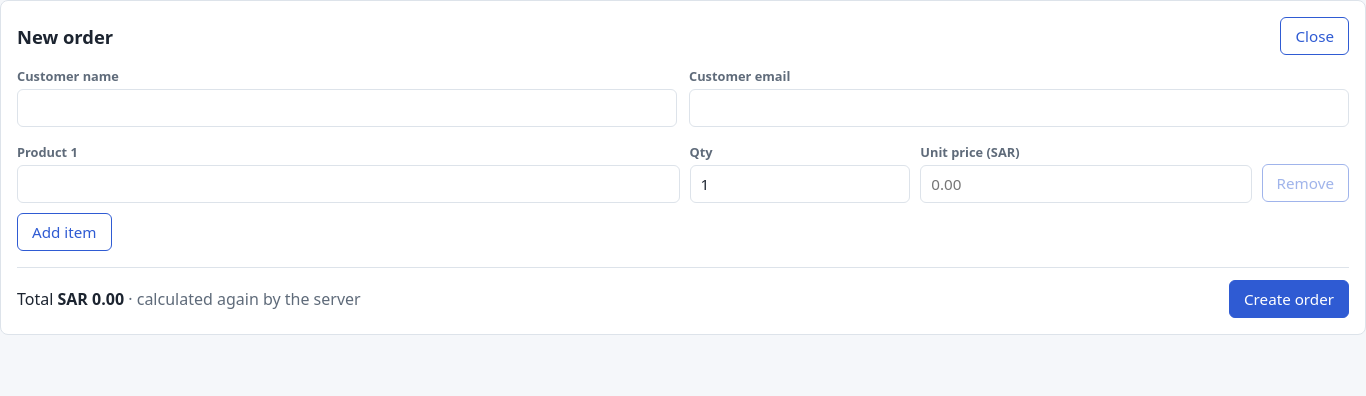
Scenario: CreateOrderForm › shows field errors and sends nothing when the form is invalid
Type "not-an-email" into the field labelled "Customer email" at (1019, 108), box [689,89,1349,127]
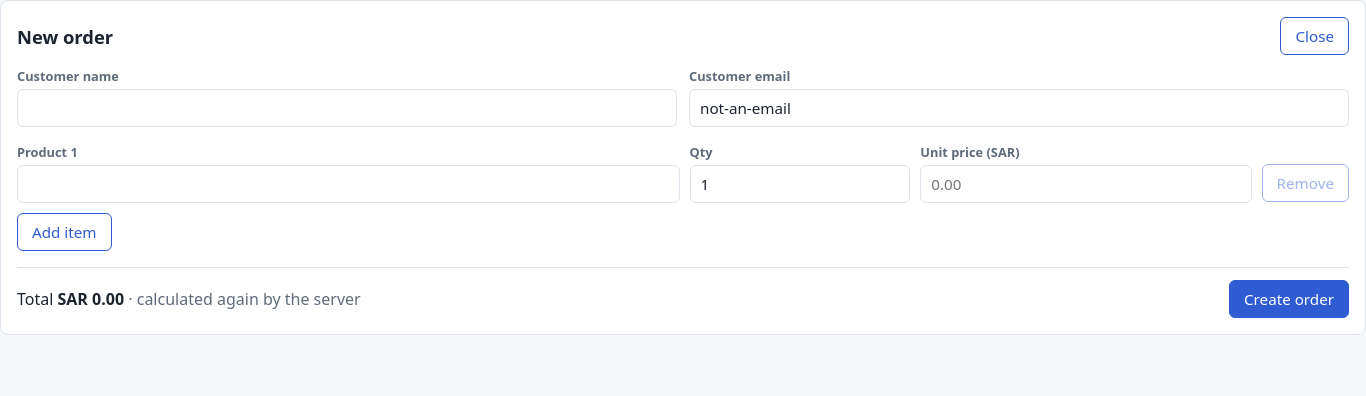
Type "24.999" into the field labelled "Unit price (SAR)" at (1086, 184), box [920,165,1252,203]
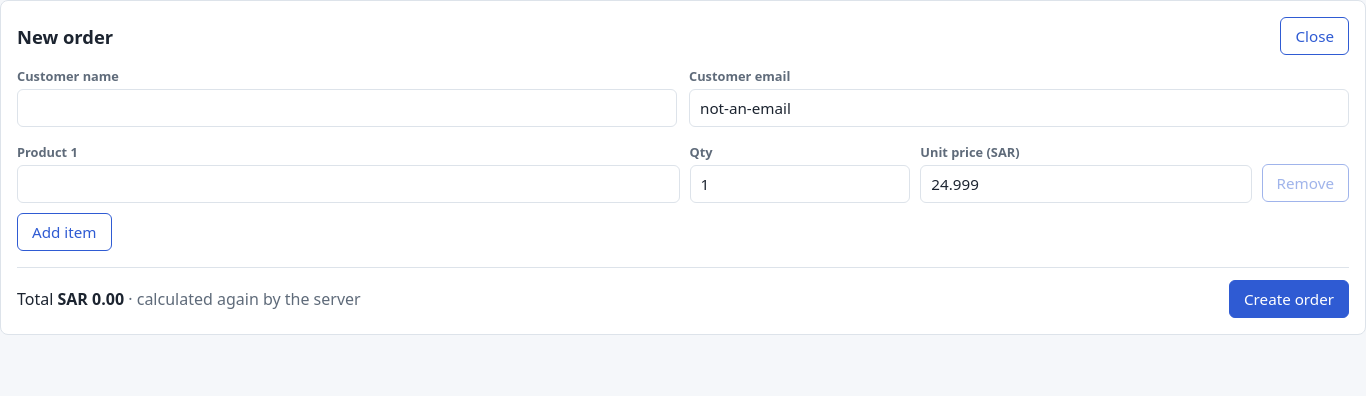
Click the button "Create order" at (1289, 299), box [1229,280,1349,318]
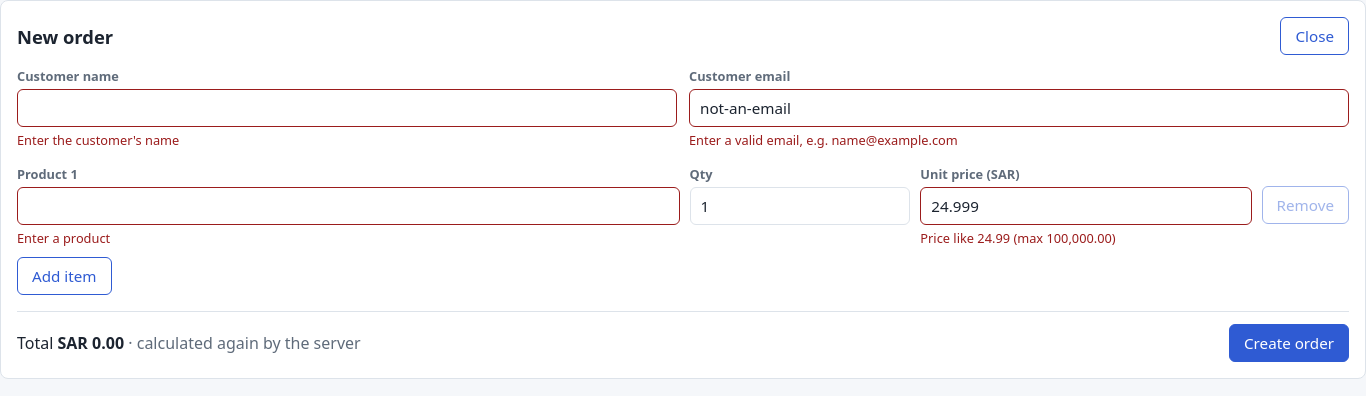
Now the text "Enter the customer's name" is shown, box [17,131,179,149]
Now the text "Enter a valid email, e.g. name@example.com" is shown, box [689,131,958,149]
Now the text "Enter a product" is shown, box [17,229,110,247]
